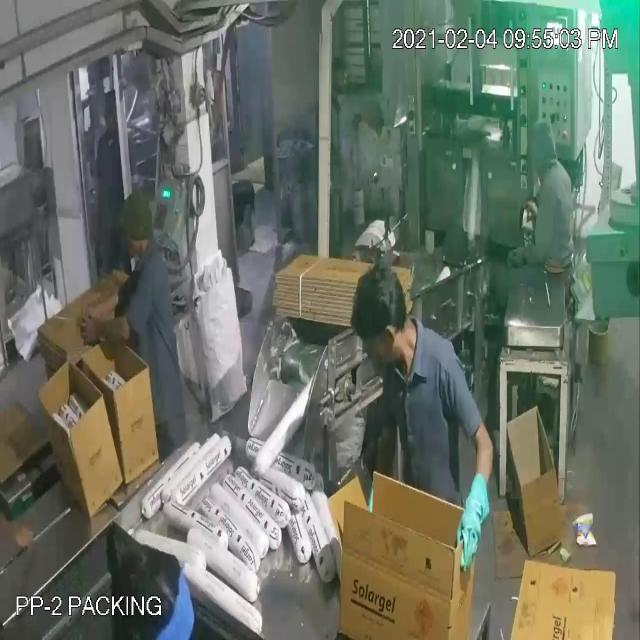gloves: (452, 463, 488, 582)
no-gloves: (79, 298, 135, 356)
